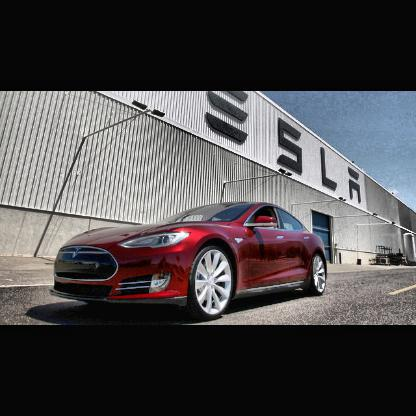Tesla Model S Sedan 2012: (50, 203, 330, 320)
